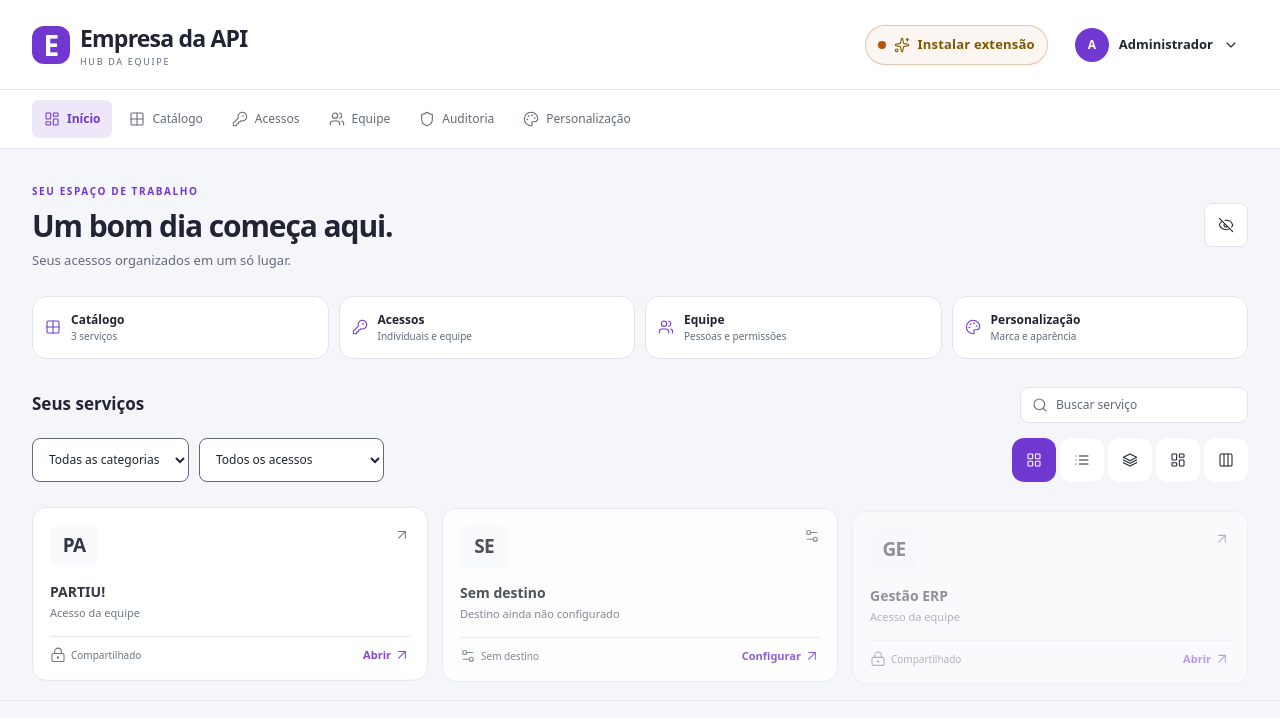
Workspace design system › filters names and categories without accents or case and announces results
Expected: the link "Abrir Gestão ERP" is shown, [852,507,1248,681]
Step 1. Type "GESTAO" into the field named "Buscar serviços no Workspace" → {"x": 1146, "y": 405}, box [1056,396,1236,414]
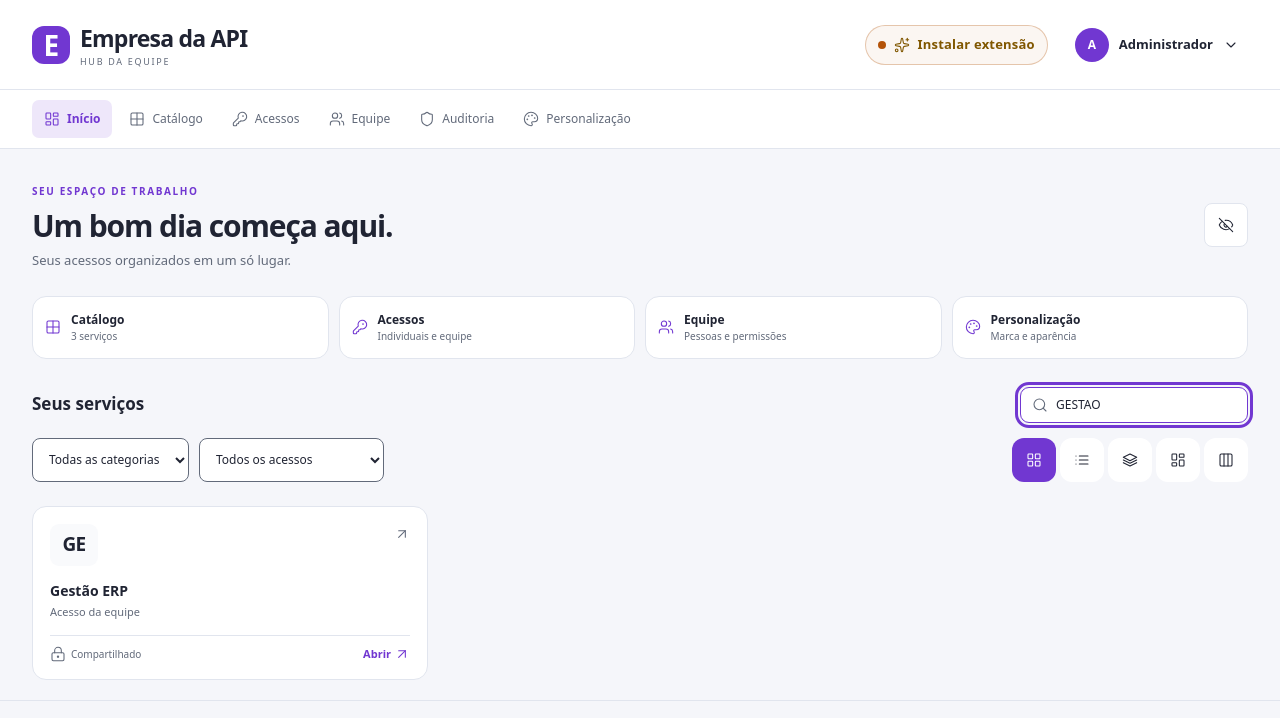
Expected: the link with aria-label "Abrir Gestão ERP" is shown, [32,506,428,680]
Step 2. Replace the text in the field named "Buscar serviços no Workspace" with "SISTEMAS" → {"x": 1146, "y": 405}, box [1056,396,1236,414]
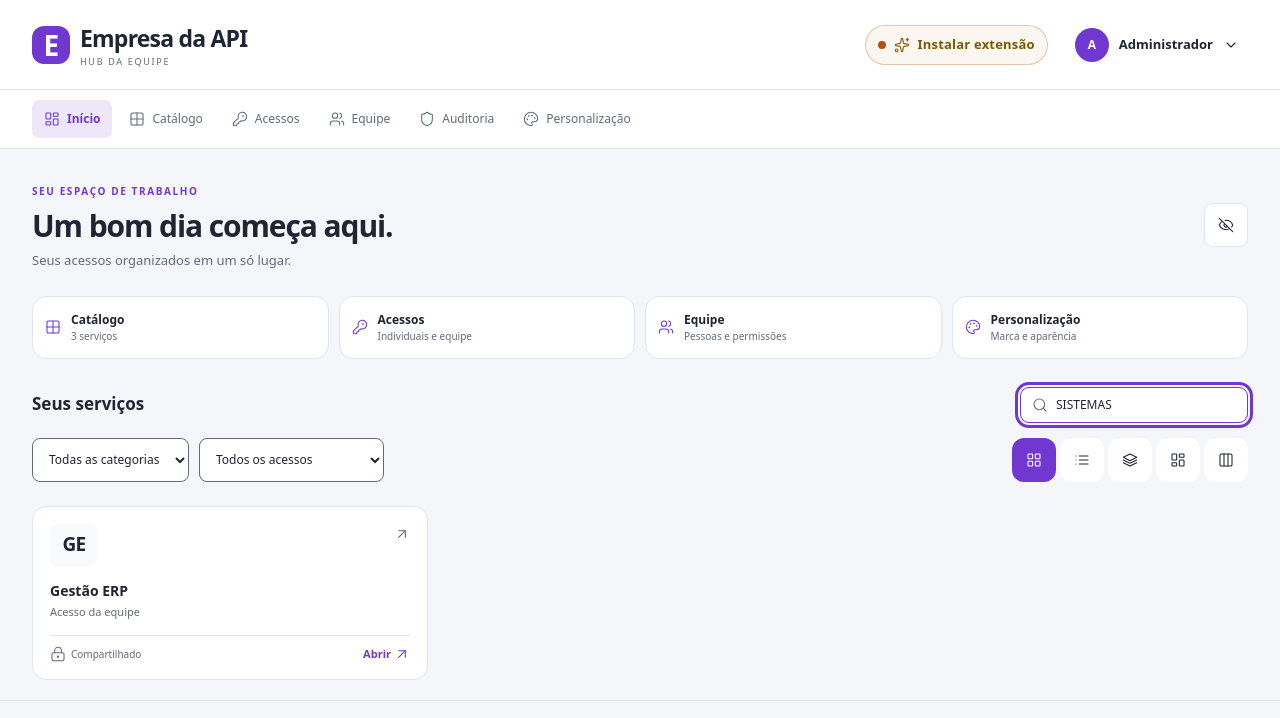
Expected: the link with aria-label "Abrir Gestão ERP" is shown, [32,506,428,680]
Step 3. Replace the text in the field named "Buscar serviços no Workspace" with "inexistente" → {"x": 1146, "y": 405}, box [1056,396,1236,414]
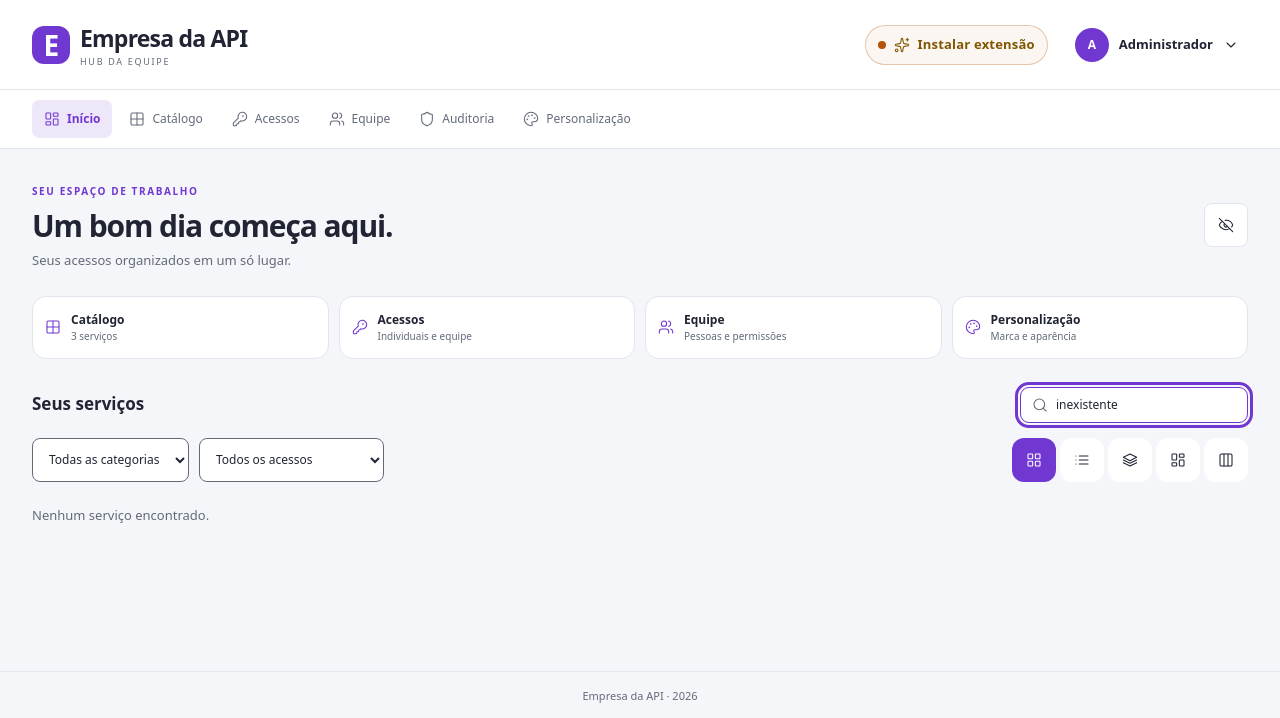
Expected: the text "Nenhum serviço encontrado." is shown, [32,506,209,524]
